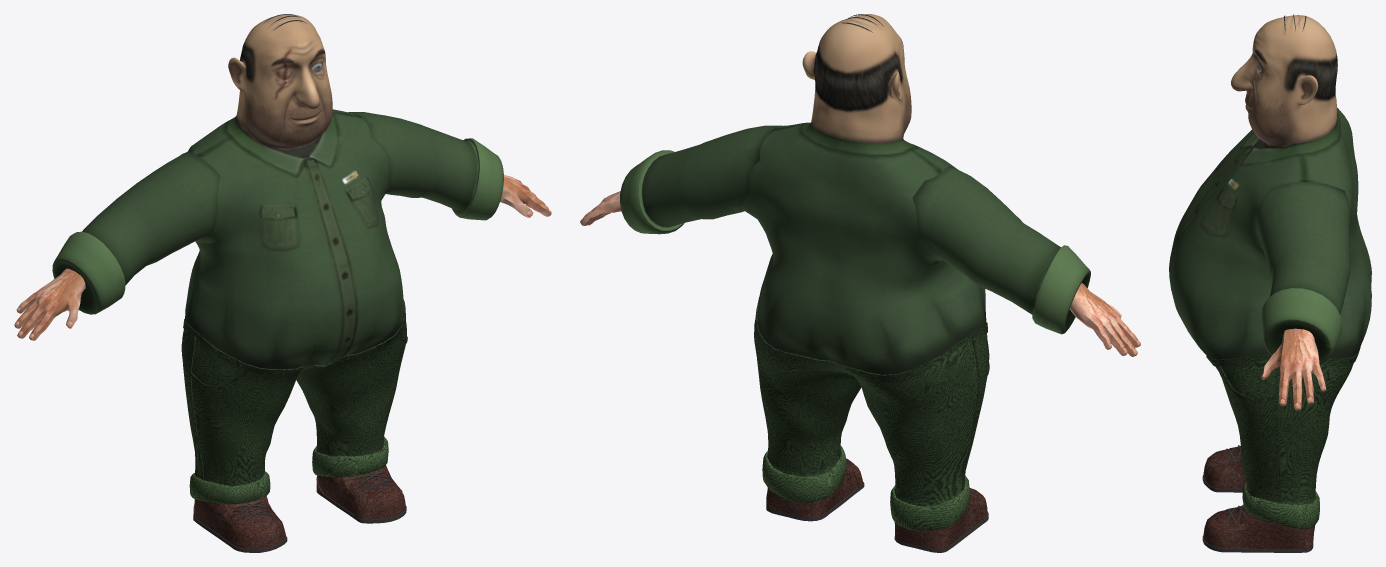
Rendered from JANITOR.fbx.
The picture shows the model from 3 angles, left to right: view 1: azimuth 30°, elevation 25°; view 2: azimuth 150°, elevation 25°; view 3: azimuth 270°, elevation 25°; orthographic projection. The views are drawn at different scales.
Visible parts, largest first — view 1: Cube_8; view 2: Cube_8; view 3: Cube_8.
Part boxes in pixels (<box>): Cube_8: <box>14,14,551,552</box>; Cube_8: <box>580,14,1140,552</box>; Cube_8: <box>1169,14,1371,552</box>.
Bounding box in the file's own units: 222 × 194 × 72.58.
Materials: 1 (1 with a texture image).
